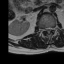CCS_normal: (47, 25, 49, 35)
LFS_normal: (51, 25, 53, 32)
LLS_normal: (49, 25, 51, 33)
RFS_normal: (42, 26, 45, 33)
RLS_normal: (45, 25, 47, 32)
